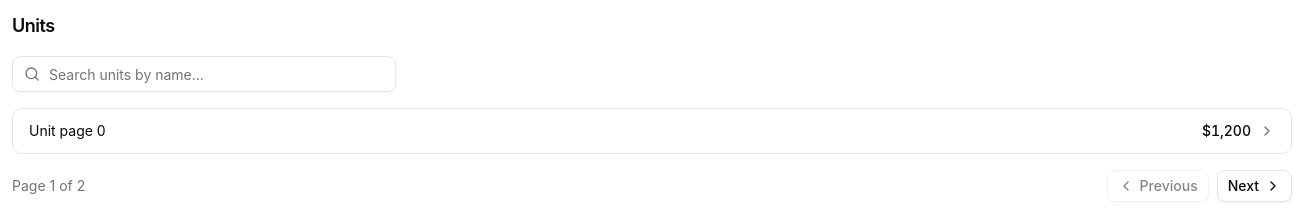
Scenario: PropertyUnits › pages through units by offset
Expected: the text "Unit page 0" is shown, [29, 121, 106, 141]
Expected: the text "Page 1 of 2" is shown, [12, 176, 85, 196]
Click the button "Next" at (1254, 186), box [1217, 170, 1292, 202]
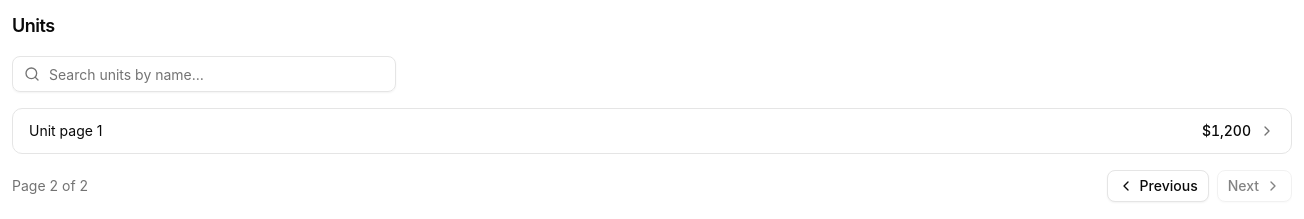
Now the text "Unit page 1" is shown, box [29, 121, 103, 141]
Now the text "Page 2 of 2" is shown, box [12, 176, 88, 196]
Now the button "Next" is disabled, box [1217, 170, 1292, 202]
